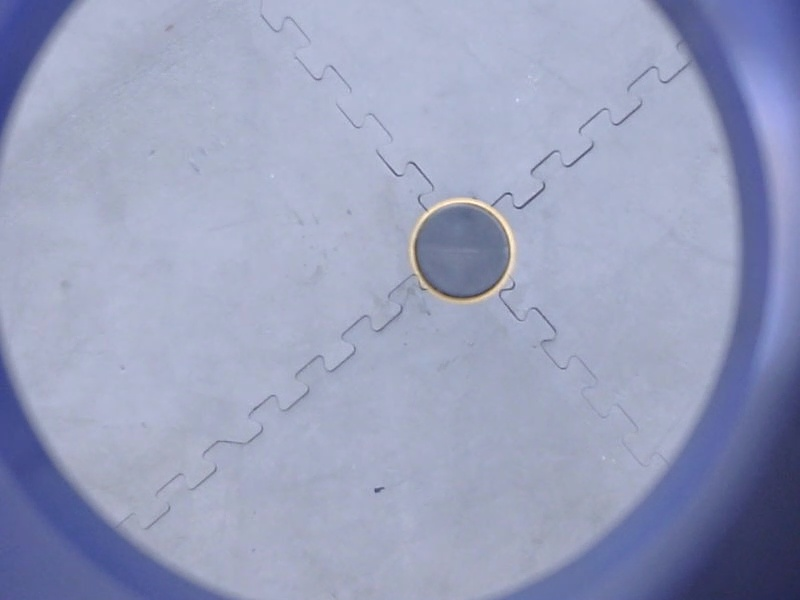tip: (404, 191, 524, 313)
